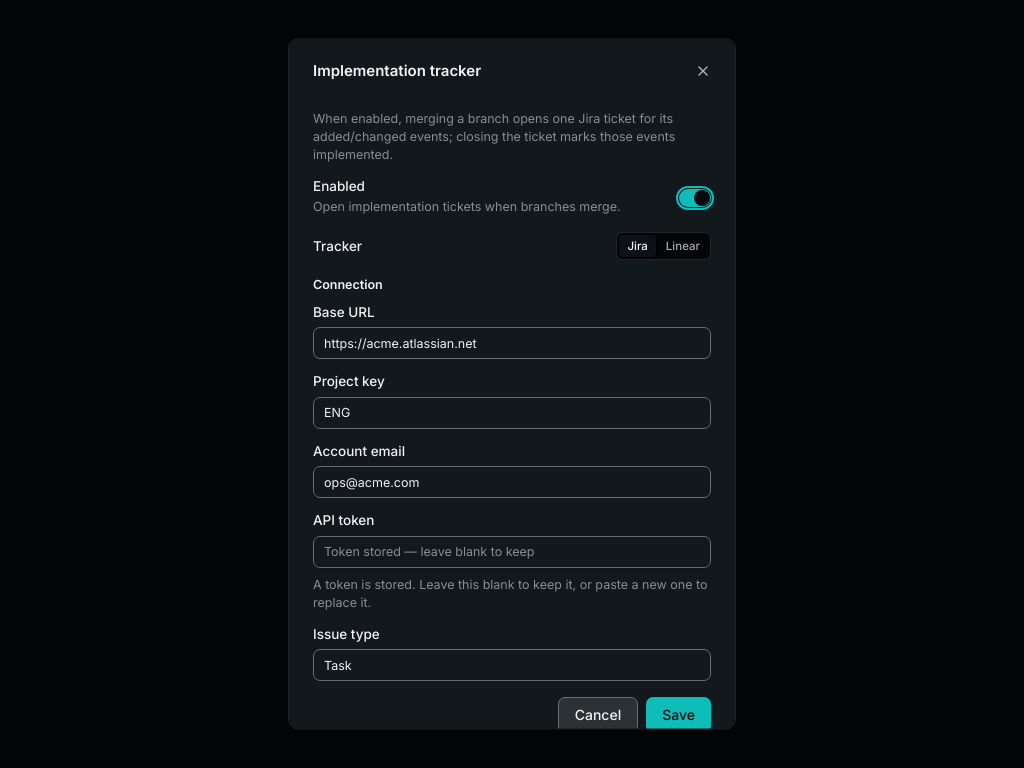
it: TrackerConfigDialog › surfaces a 403 from PATCH with a plain-language message
Step 1. Replace the text in the field labelled "Project key" with "PAY" → coordinates (512, 413), box [313,397,711,429]
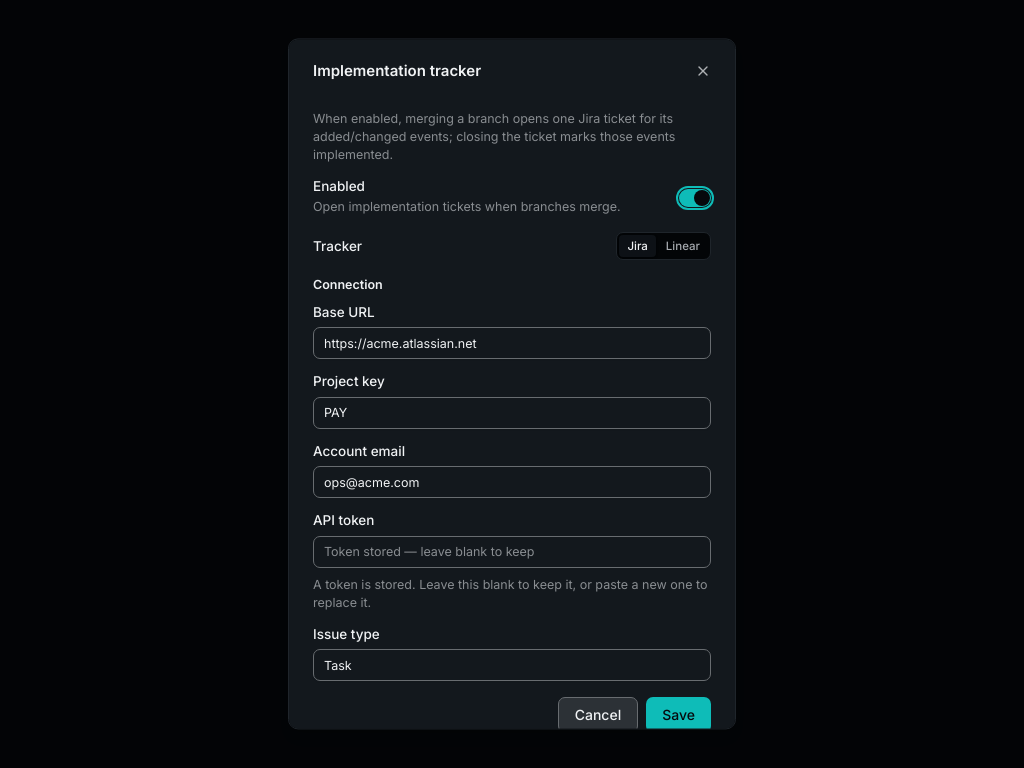
Step 2. Click the button "Save" → coordinates (679, 715), box [646,697,711,733]
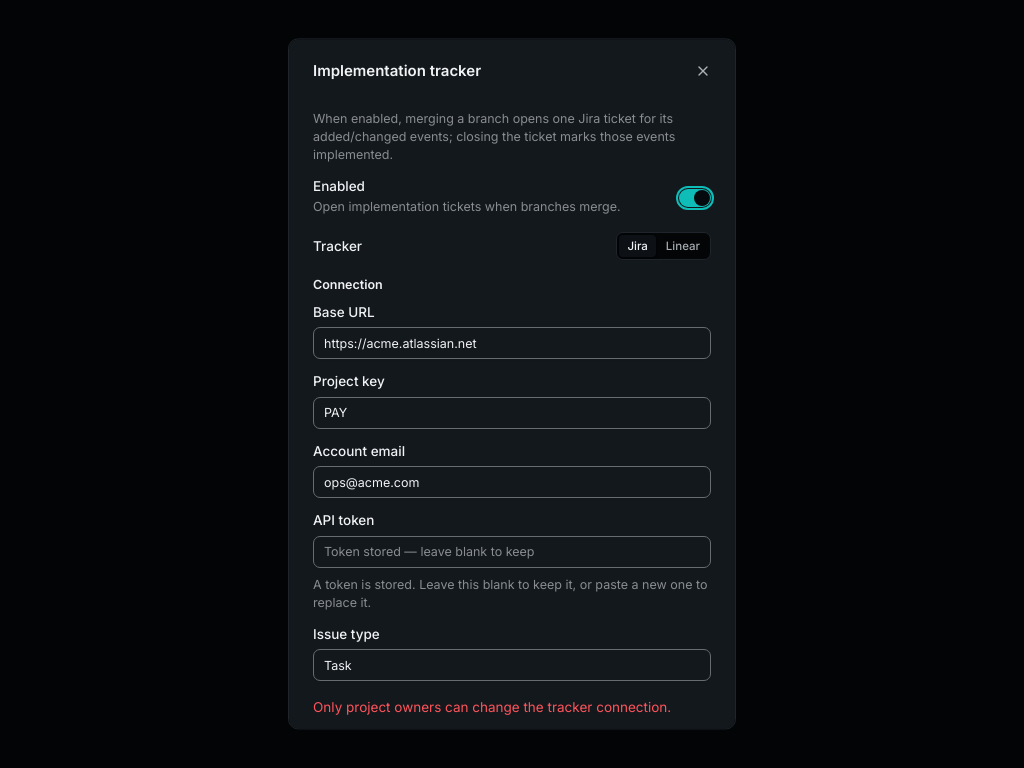
Check: the text "Only project owners can change the tracker connection." is shown, box [313,697,711,717]
